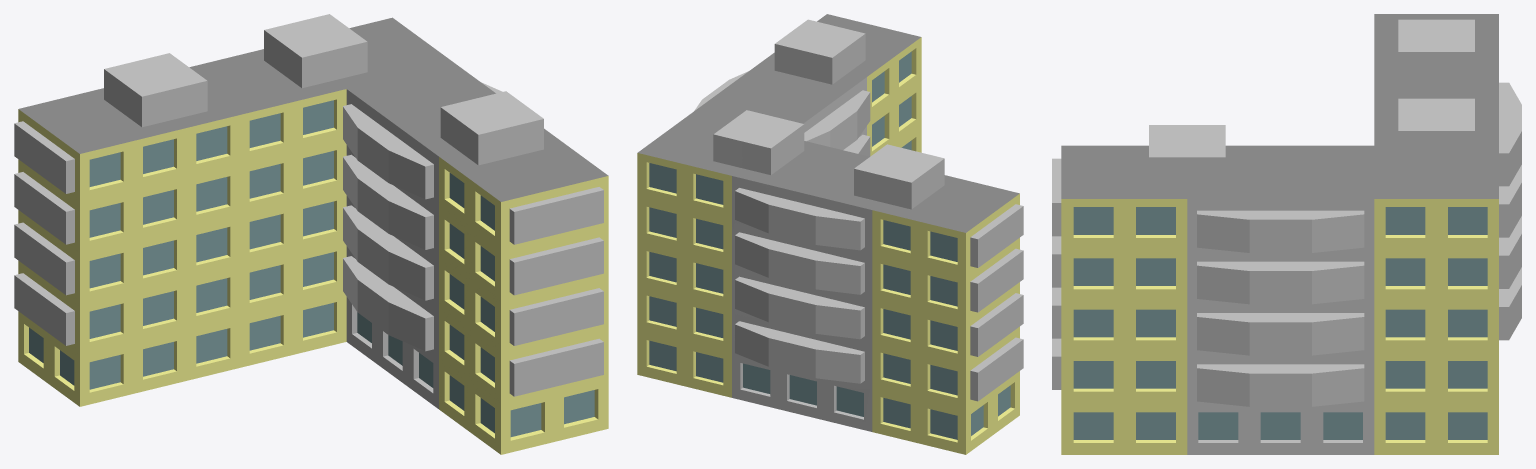
Rendered from Panelka_corner.fbx.
The picture shows the model from 3 angles, left to right: view 1: azimuth 30°, elevation 25°; view 2: azimuth 150°, elevation 25°; view 3: azimuth 270°, elevation 25°; orthographic projection. The views are drawn at different scales.
Parts seen in each view (by area): view 1: Panelka_corner; view 2: Panelka_corner; view 3: Panelka_corner.
Part boxes in pixels (x1,y1,x2,y2): Panelka_corner: (14, 14, 608, 454); Panelka_corner: (637, 14, 1023, 454); Panelka_corner: (1052, 14, 1521, 454).
Bounding box in the file's own units: 107 × 72.37 × 107.
